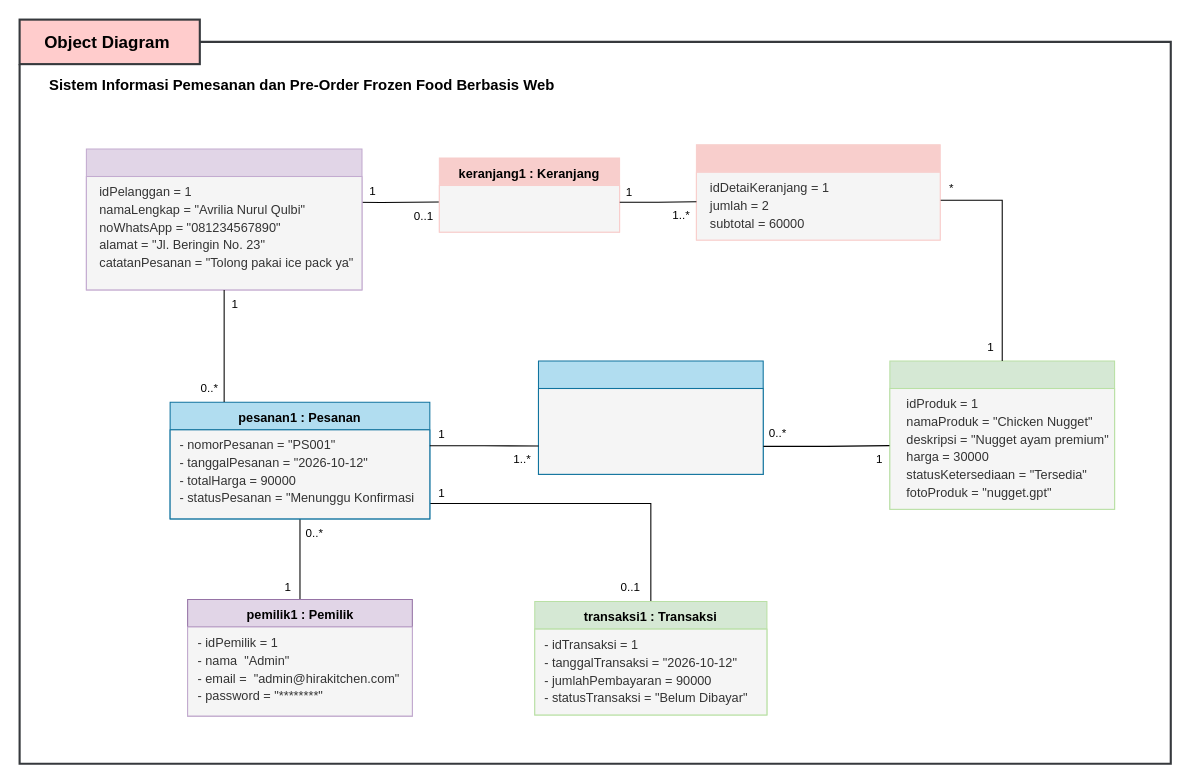
Image size: 1190x783. Some labels were removed from this diagram. Each missing label, with the box of its shape:
- idDetailPesanan = 1 - jumlah = 2 - hargaProduk : 30000 - subtotal : 60000: (537, 387, 763, 474)
detailKeranjang1 : detailKeranjang: (695, 144, 940, 240)
detailPesanan1 : DetailPesanan: (537, 360, 763, 474)
idKeranjang = int totalHarga = 85000: (438, 184, 620, 232)
pelanggan1 : Pelanggan: (85, 148, 362, 290)
produk1 : Produk: (889, 360, 1115, 509)
